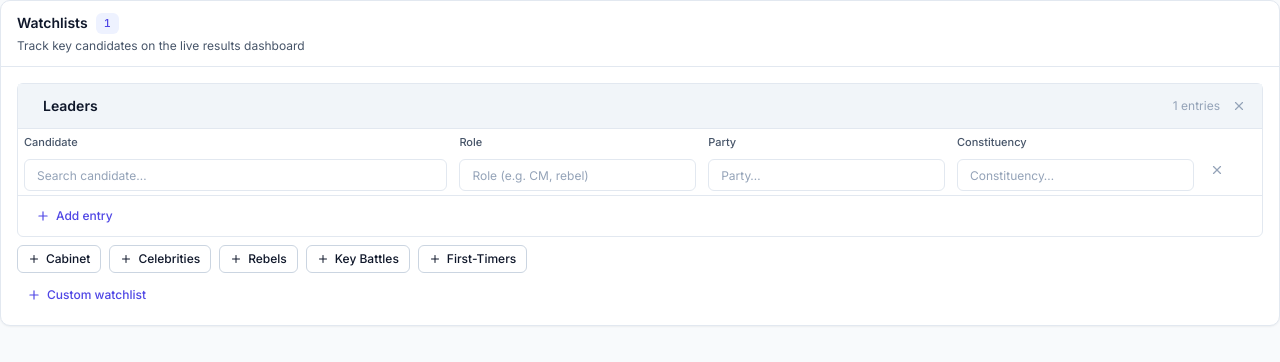
Test: WatchlistEditor › a failed candidate search shows a note and keeps the typed name
In the dropdown named "Entry 1 candidate": [236, 175] box [24,159,447,191], type "rav"
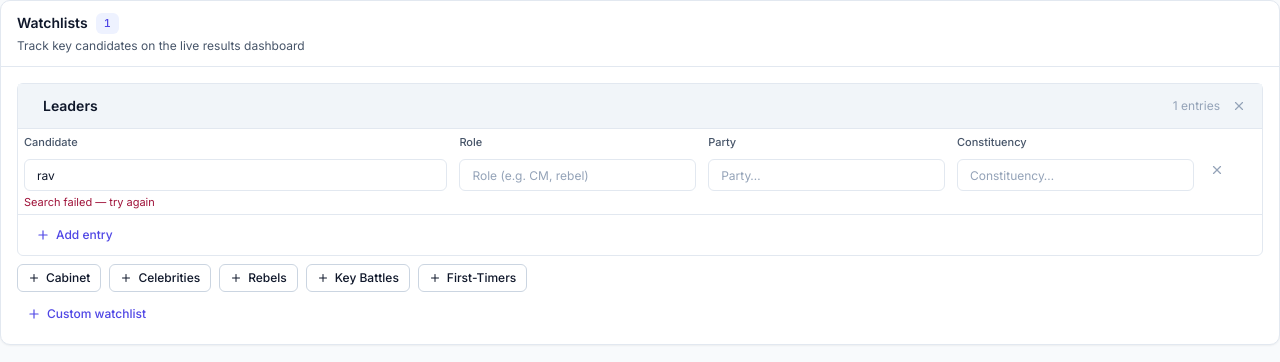
Expected: the table named "Leaders entries" is shown, [18,128,1262,214]
Expected: the text "Search failed — try again" is shown, [24,195,155,209]
